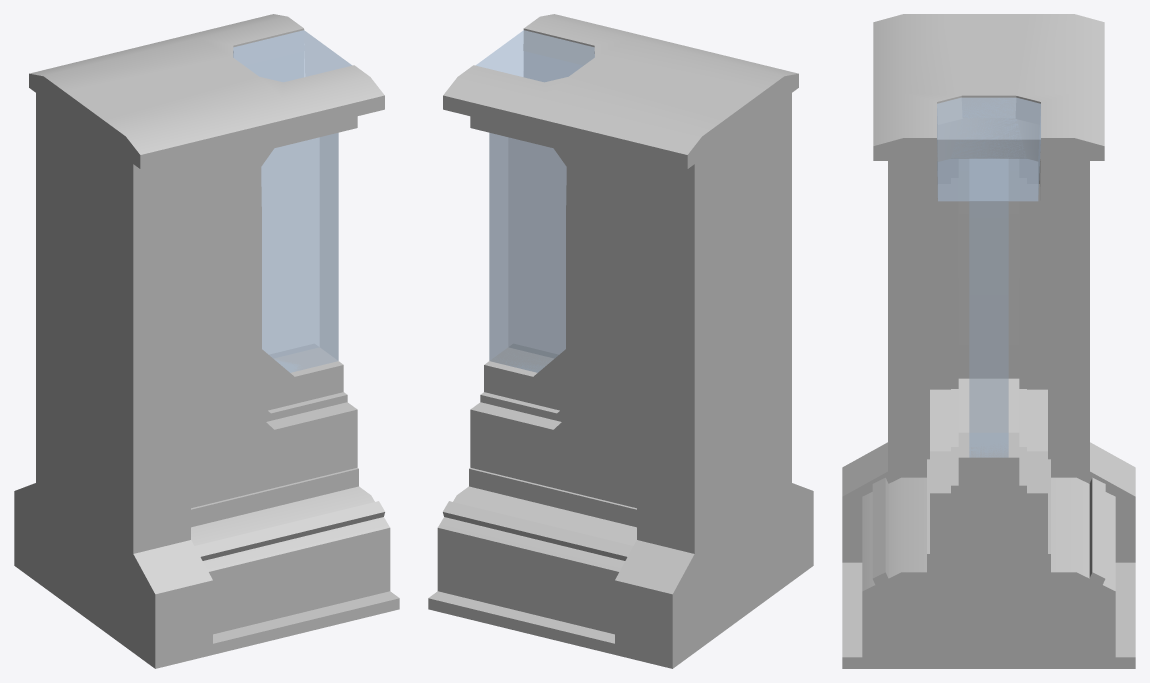
Rendered from GlassEnd.fbx.
3 renders of one model, left to right at view 1: azimuth 30°, elevation 25°; view 2: azimuth 150°, elevation 25°; view 3: azimuth 270°, elevation 25°, orthographic. The views are drawn at different scales.
Visible parts, largest first — view 1: Glass End; view 2: Glass End; view 3: Glass End.
Part boxes in pixels (bbox=[...]): Glass End: bbox=[14, 14, 399, 668]; Glass End: bbox=[428, 14, 813, 668]; Glass End: bbox=[842, 14, 1135, 668].
Size of the model in its own units: 99.99 by 200 by 100.
